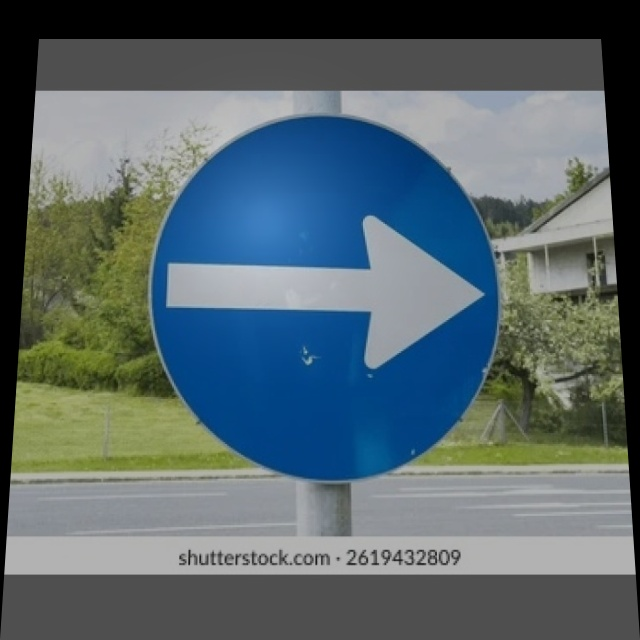Compulsory_Turn_Right: (140, 112, 506, 484)
